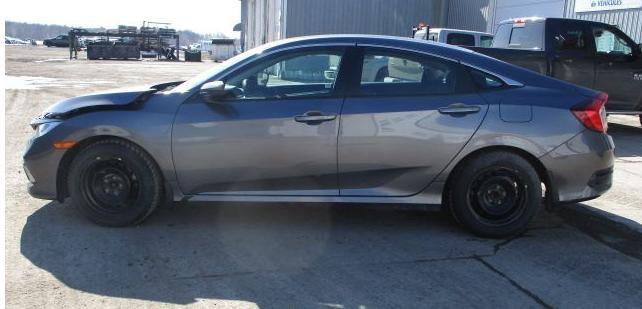Back-bumper: (539, 128, 614, 204)
Back-door: (337, 43, 489, 197)
Back-wheel: (450, 152, 541, 239)
Back-window: (352, 47, 457, 94), (471, 71, 503, 88)
Fender: (45, 91, 198, 181)
Front-bumper: (23, 135, 69, 199)
Front-door: (172, 43, 356, 196)
Front-wheel: (68, 139, 163, 229)
Front-window: (237, 48, 345, 98)
Headlight: (33, 121, 62, 137)
Hood: (30, 81, 186, 129)
Mirror: (200, 82, 237, 101)
Quarter-panel: (432, 86, 599, 182)
Rocker-panel: (165, 181, 444, 203)
Tail-light: (570, 91, 609, 134)
Windshield: (168, 43, 277, 91)
